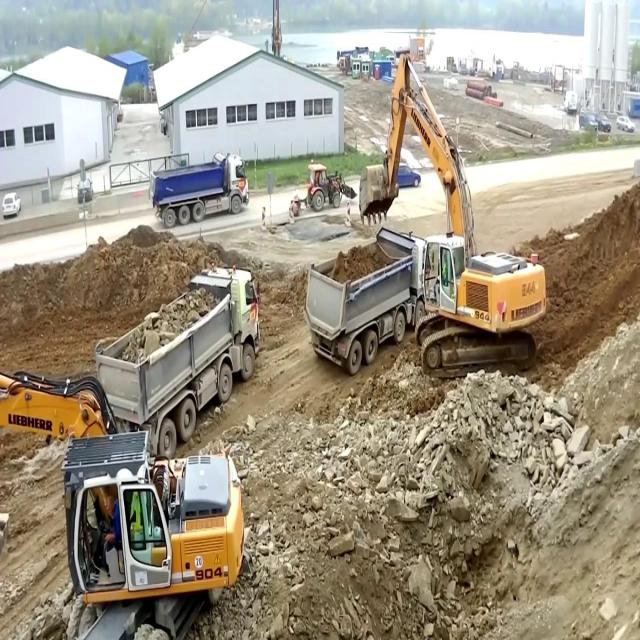buldozerpayloadergrader: (289, 156, 357, 222)
dump_truck: (96, 262, 272, 465), (302, 226, 425, 374), (144, 151, 250, 227)
excavator: (0, 369, 251, 632), (356, 47, 548, 380)
